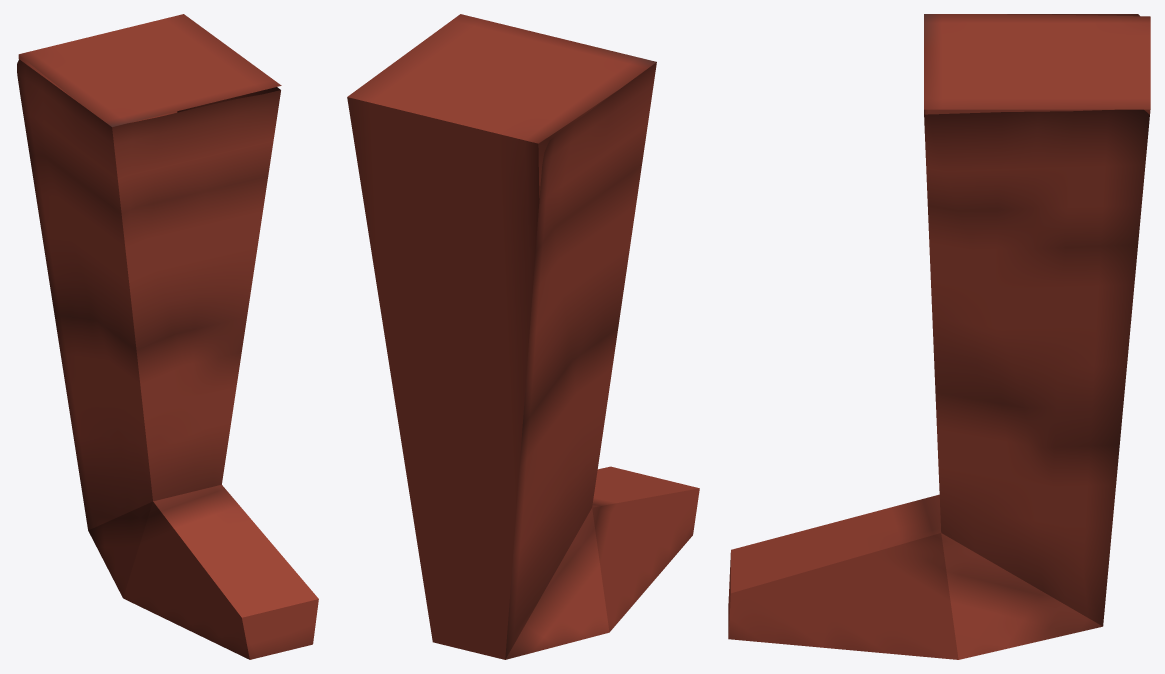
The model's file is 05_01_LLeg.obj.
The picture shows the model from 3 angles, left to right: view 1: azimuth 30°, elevation 25°; view 2: azimuth 150°, elevation 25°; view 3: azimuth 270°, elevation 25°; orthographic projection. The views are drawn at different scales.
Parts seen in each view (by area): view 1: polySurface3 Cube; view 2: polySurface3 Cube; view 3: polySurface3 Cube.
Part boxes in pixels (<box>): polySurface3 Cube: <box>17,14,318,659</box>; polySurface3 Cube: <box>347,14,699,659</box>; polySurface3 Cube: <box>728,14,1150,659</box>.
Bounding box in the file's own units: 30.47 × 83.79 × 56.73.
1 material, 1 textured.
